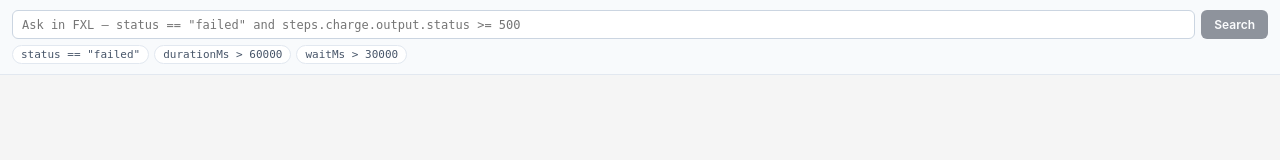
RunQueryBar › falls back to the error message when the server sent no body
Replace the text in the field named "Filter runs with an FXL predicate" with "status == \"failed\"". click: point(604, 24)
box: [12,10,1195,39]
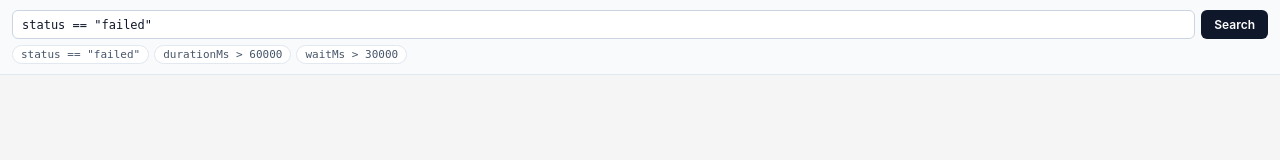
Click the button "Search". click: point(1235, 24)
box: [1201,10,1268,39]
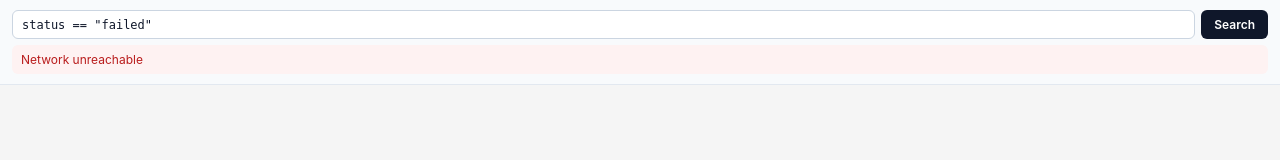
Check: the message reads "Network unreachable", box [21,52,143,67]
